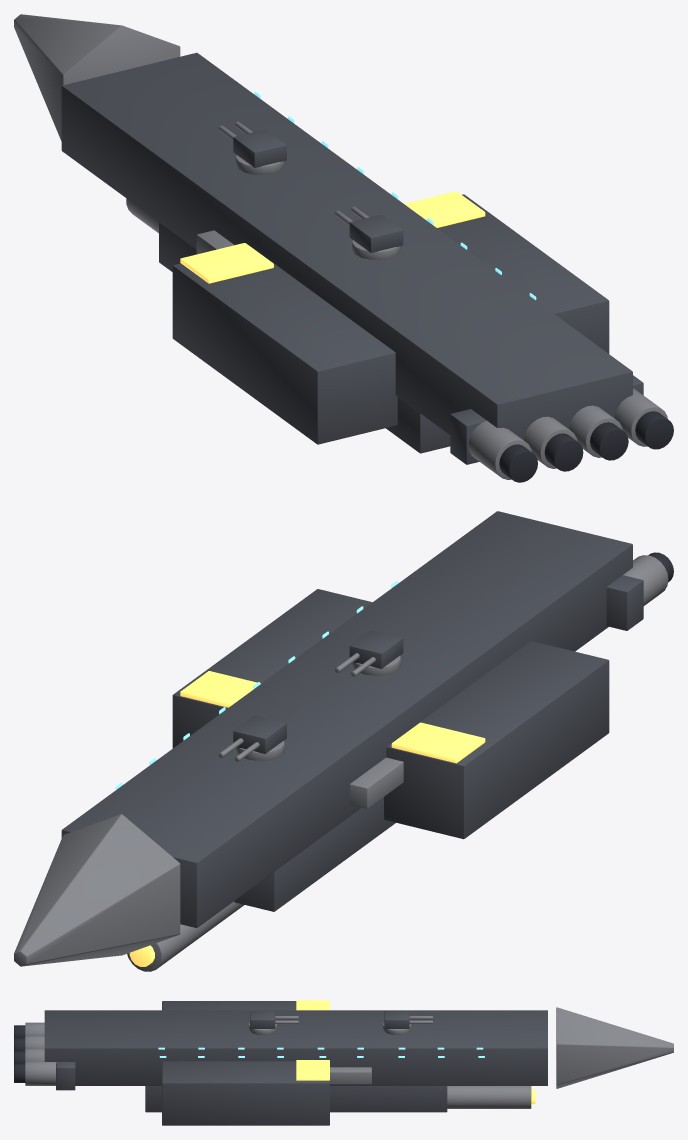
Rendered from lance.glb.
3 views of the same model, one above another, from view 1: azimuth 30°, elevation 25°; view 2: azimuth 150°, elevation 25°; view 3: azimuth 270°, elevation 25° (orthographic). The views are drawn at different scales.
Parts seen in each view (by area): view 1: lance; view 2: lance; view 3: lance.
Part boxes in pixels (x1,y1,x2,y2): lance: (14, 14, 673, 482); lance: (14, 511, 673, 971); lance: (14, 1000, 673, 1125).
Size of the model in its own units: 11.6 by 6.6 by 39.32.
